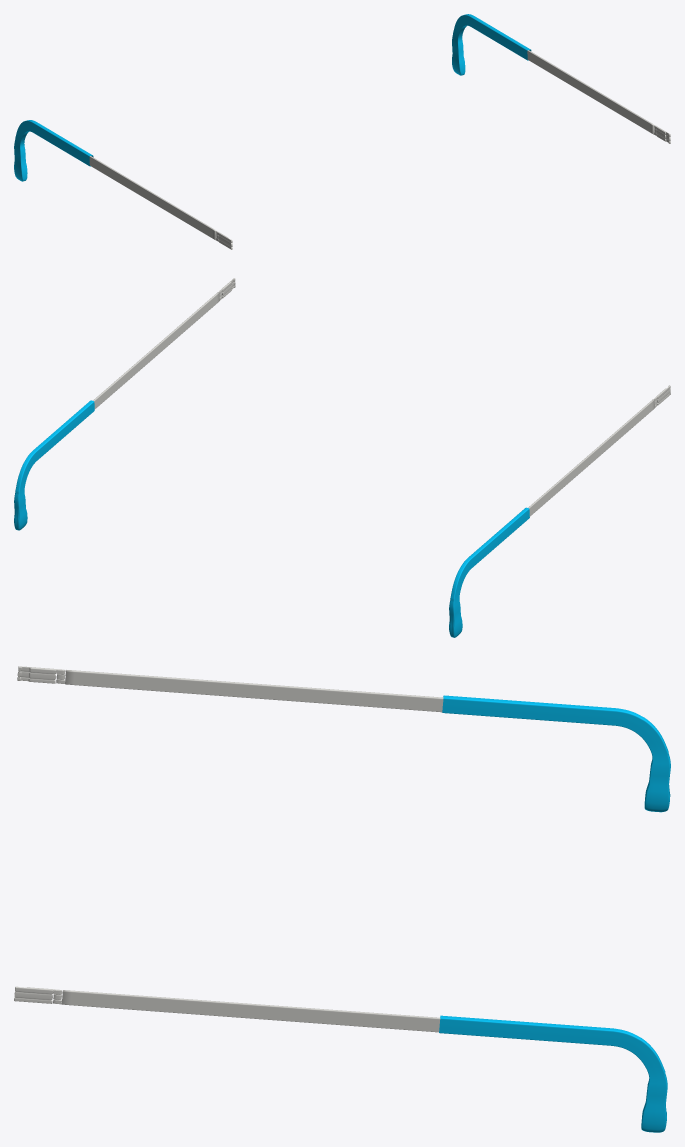
File: custom-temple-tips-5.gltf
The picture shows the model from 3 angles, top to bottom: view 1: azimuth 30°, elevation 25°; view 2: azimuth 150°, elevation 25°; view 3: azimuth 270°, elevation 25°; orthographic projection. The views are drawn at different scales.
Visible parts, largest first — view 1: Cube.001, Cube.002; view 2: Cube.002, Cube.001; view 3: Cube.001, Cube.002.
Boxes of the visible parts, x1,y1,x2,y2 form: Cube.001: (89, 50, 670, 249); Cube.002: (14, 14, 531, 181); Cube.002: (14, 400, 529, 637); Cube.001: (93, 278, 670, 516); Cube.001: (14, 666, 443, 1032); Cube.002: (439, 695, 670, 1132).
Size of the model in its own units: 0.9923 by 0.2049 by 0.849.
